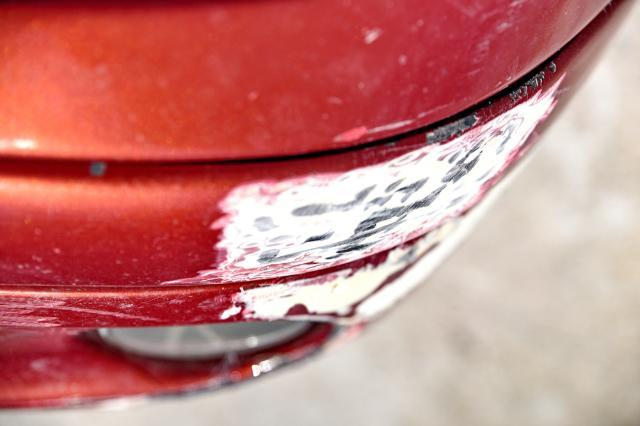scratch: (0, 64, 569, 334)
